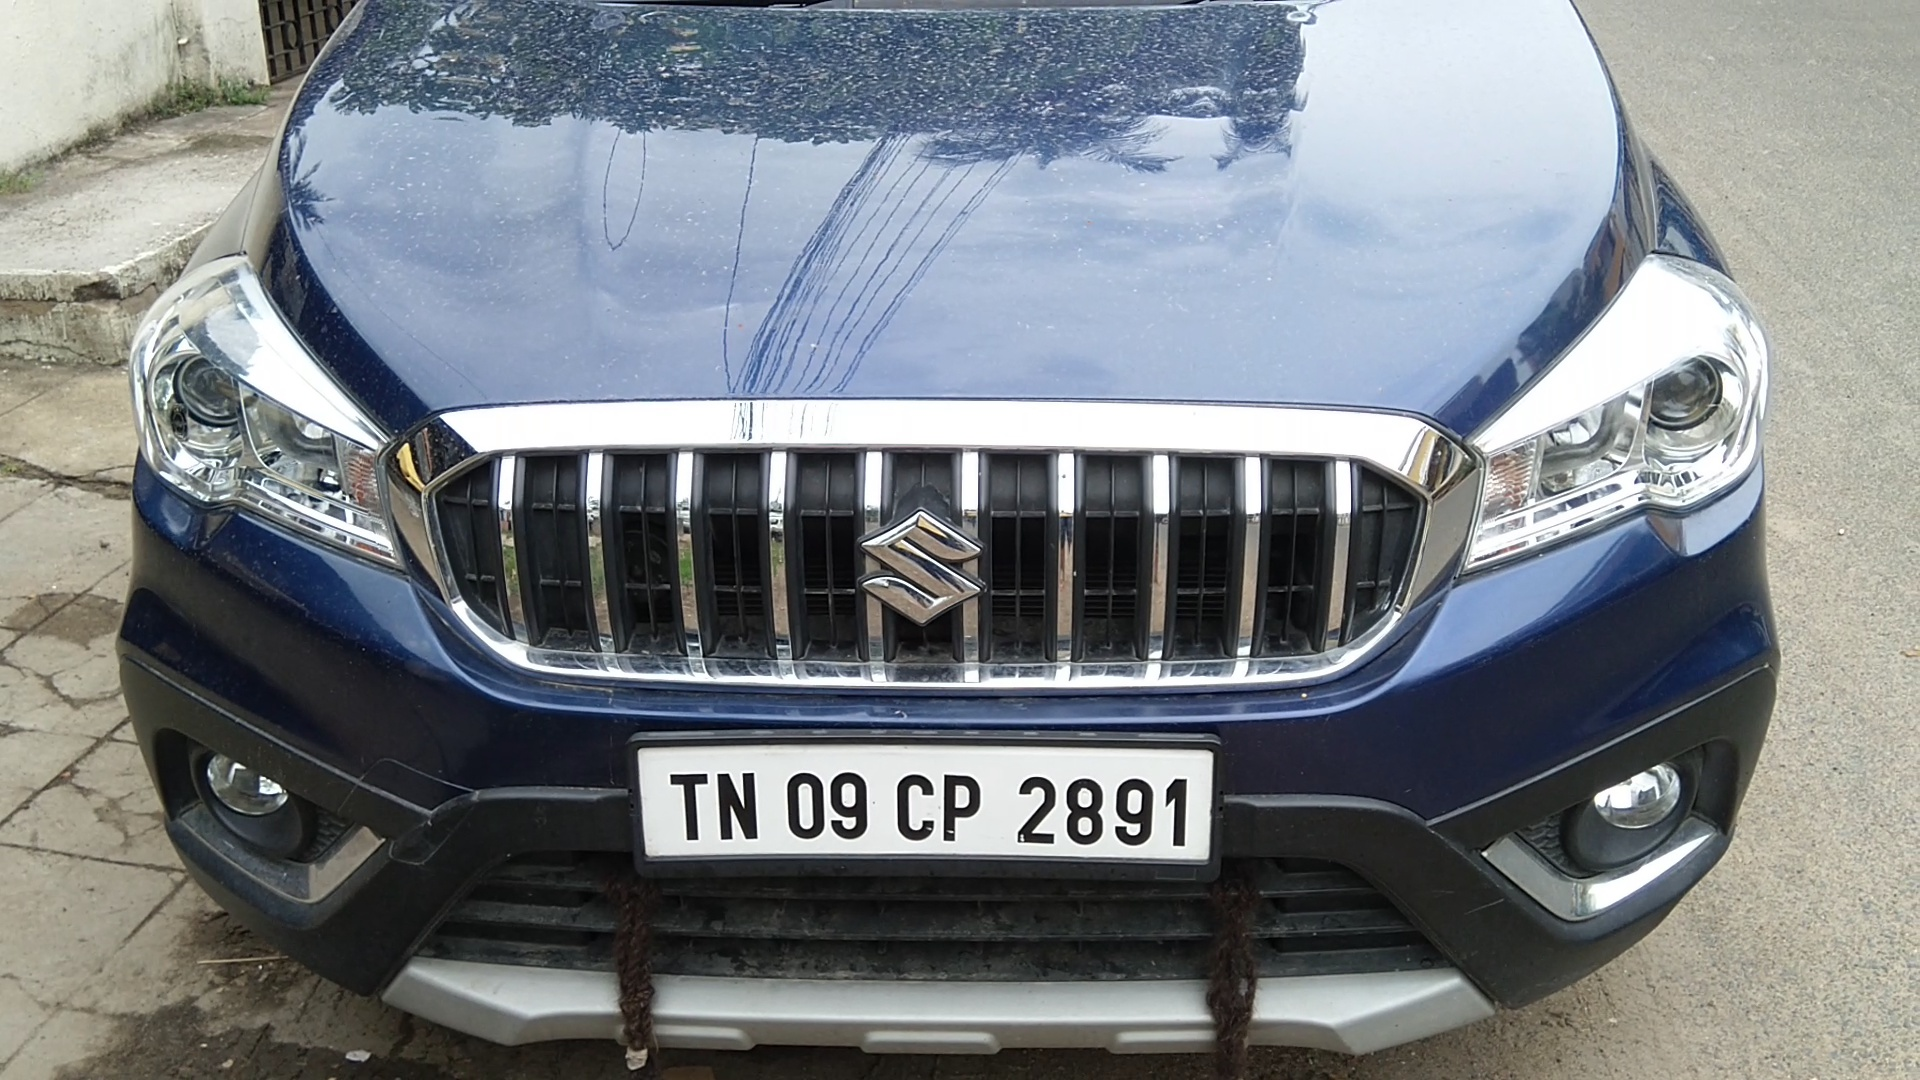front_grill: (411, 396, 1466, 731)
headlamp: (1464, 243, 1774, 579), (113, 241, 404, 576)
